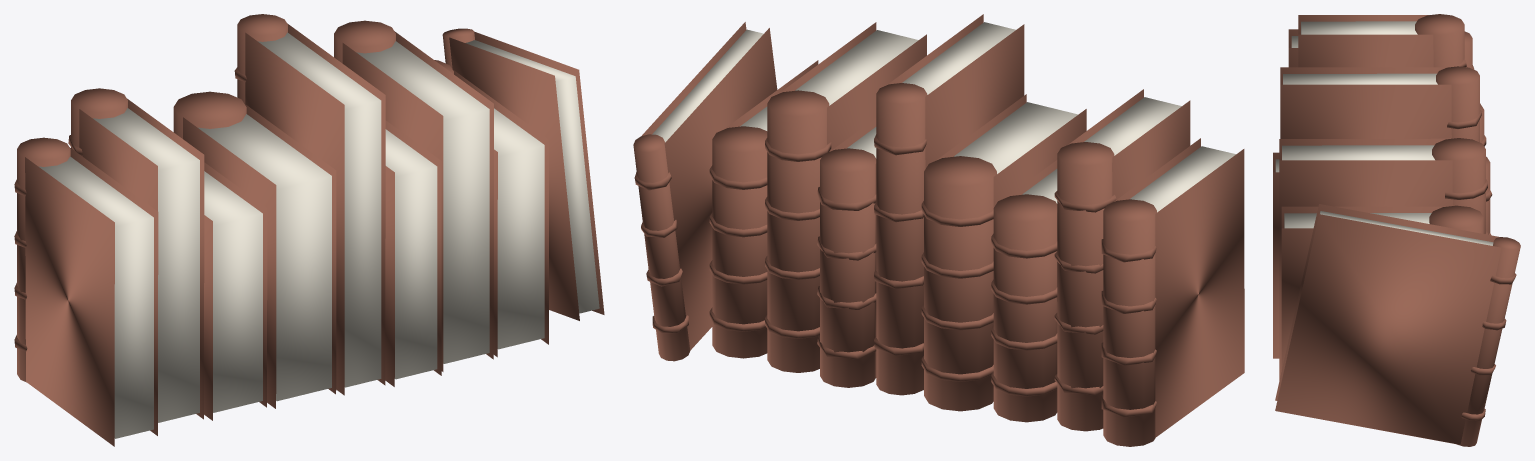
File: books_row_a.glb
3 renders of one model, left to right at view 1: azimuth 30°, elevation 25°; view 2: azimuth 150°, elevation 25°; view 3: azimuth 270°, elevation 25°, orthographic. The views are drawn at different scales.
Visible parts, largest first — view 1: books_row_a; view 2: books_row_a; view 3: books_row_a.
Boxes of the visible parts, x1,y1,x2,y2 form: books_row_a: [14, 14, 604, 446]; books_row_a: [633, 14, 1244, 446]; books_row_a: [1273, 14, 1520, 446].
Size of the model in its own units: 0.4636 by 0.2843 by 0.2344.
